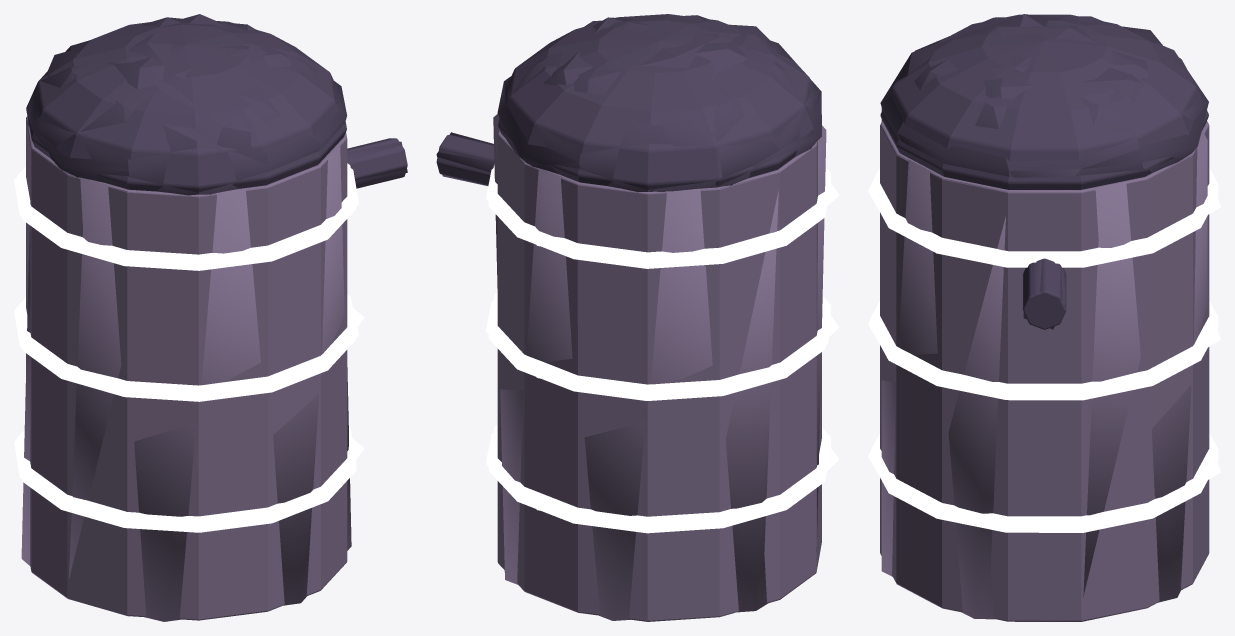
Rendered from SM_Labor_Tank.fbx.
The picture shows the model from 3 angles, left to right: view 1: azimuth 30°, elevation 25°; view 2: azimuth 150°, elevation 25°; view 3: azimuth 270°, elevation 25°; orthographic projection.
Parts seen in each view (by area): view 1: LOD0_SM_Labor_Tank, LOD3_SM_Labor_Tank, LOD1_SM_Labor_Tank, LOD2_SM_Labor_Tank; view 2: LOD0_SM_Labor_Tank, LOD3_SM_Labor_Tank, LOD2_SM_Labor_Tank, LOD1_SM_Labor_Tank; view 3: LOD0_SM_Labor_Tank, LOD3_SM_Labor_Tank, LOD2_SM_Labor_Tank, LOD1_SM_Labor_Tank.
Part boxes in pixels (bbox=[...]): LOD0_SM_Labor_Tank: bbox=[17, 21, 407, 620]; LOD3_SM_Labor_Tank: bbox=[14, 14, 364, 621]; LOD1_SM_Labor_Tank: bbox=[17, 21, 406, 620]; LOD2_SM_Labor_Tank: bbox=[17, 17, 407, 620]; LOD0_SM_Labor_Tank: bbox=[436, 14, 830, 621]; LOD3_SM_Labor_Tank: bbox=[485, 17, 839, 620]; LOD2_SM_Labor_Tank: bbox=[436, 15, 830, 621]; LOD1_SM_Labor_Tank: bbox=[437, 14, 830, 621]; LOD0_SM_Labor_Tank: bbox=[871, 14, 1218, 621]; LOD3_SM_Labor_Tank: bbox=[868, 14, 1220, 619]; LOD2_SM_Labor_Tank: bbox=[874, 16, 1217, 621]; LOD1_SM_Labor_Tank: bbox=[871, 14, 1217, 621].
Bounding box in the file's own units: 2.29 × 3.1 × 1.93.
